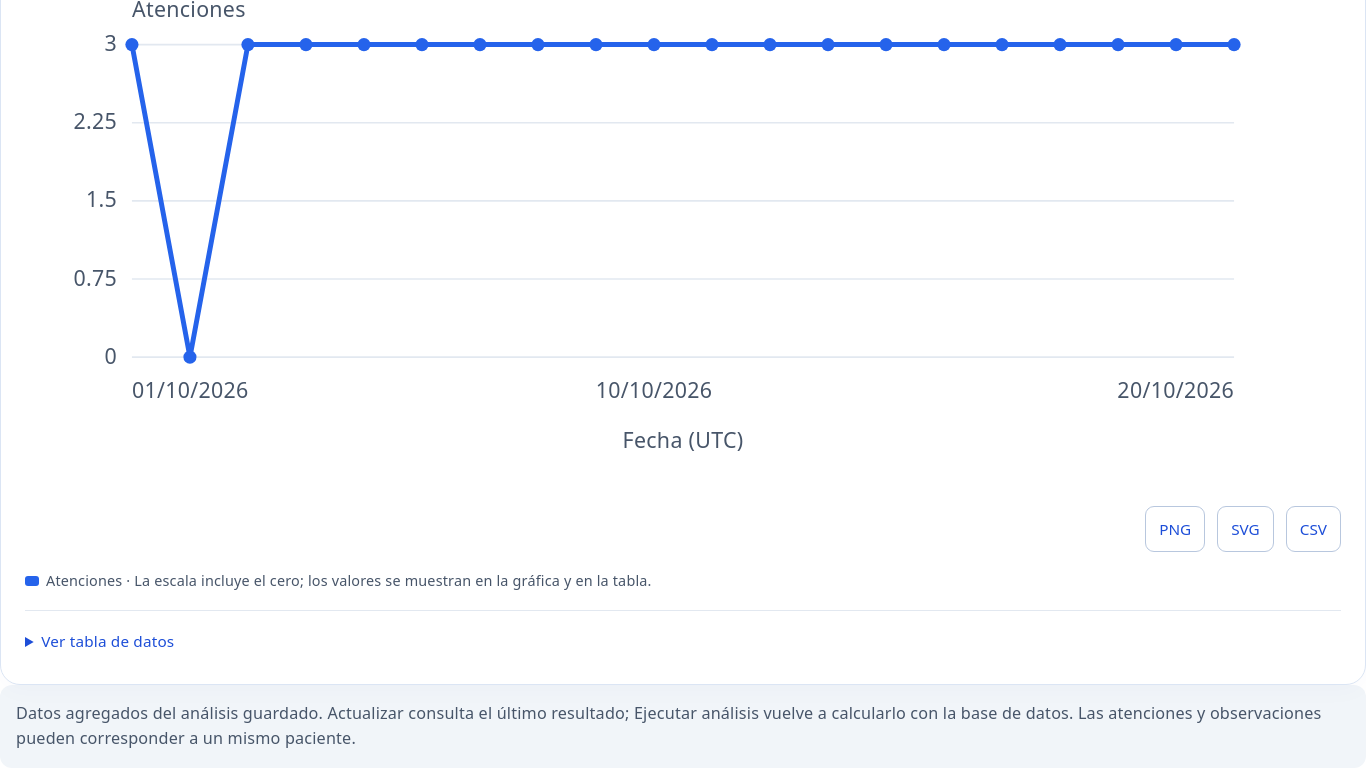
plots all dates and zero days without truncating at twelve rows
This screenshot has width=1366, height=768.
(page scrolled)
Step 1. Click the heading "Ver tabla de datos" → x=108, y=642, box [41,632,174,652]
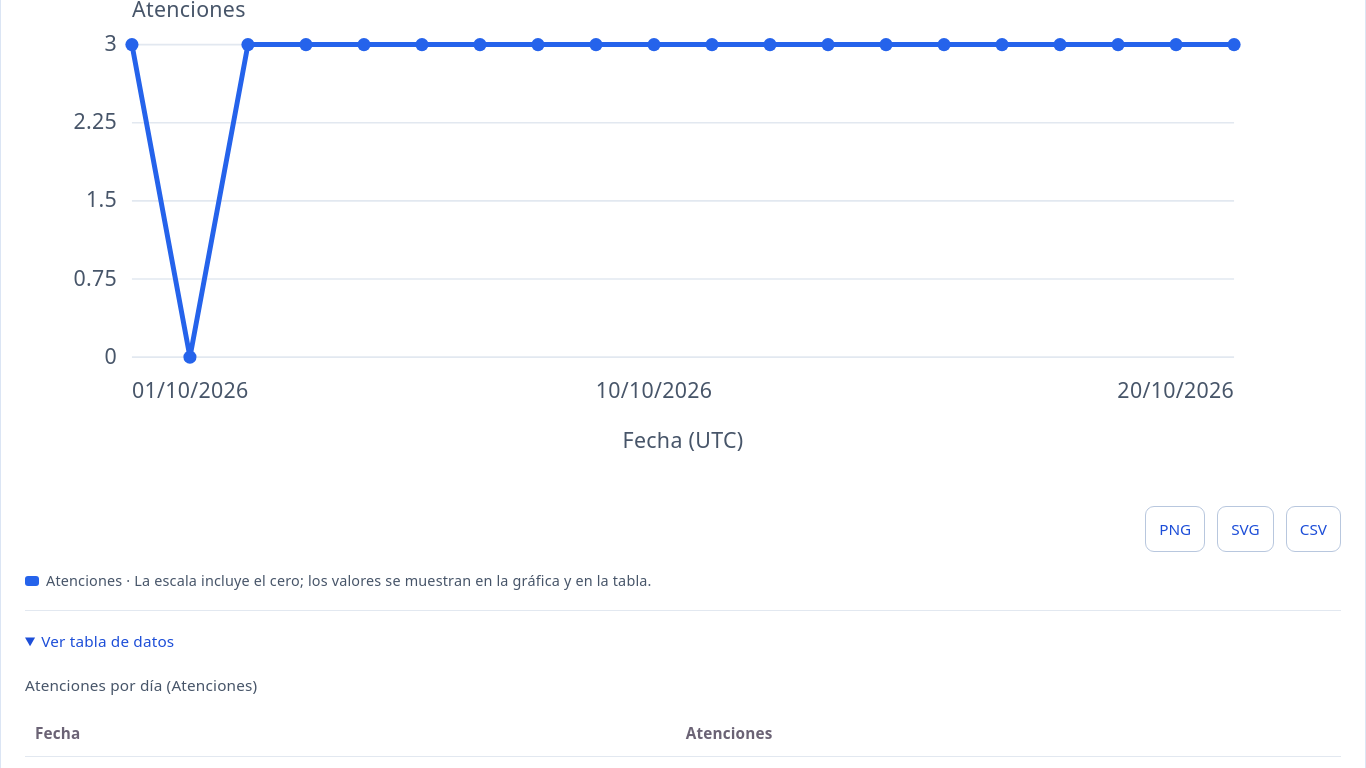
Check: the column heading "Fecha" is shown, box [25,710,676,756]
